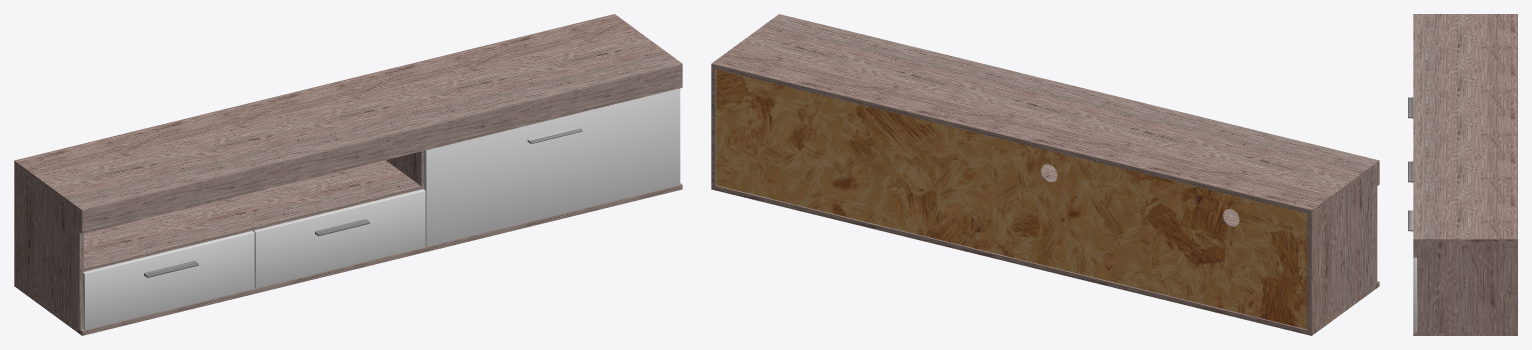
File: tv-table3.glb
3 views of the same model, side by side, from view 1: azimuth 30°, elevation 25°; view 2: azimuth 150°, elevation 25°; view 3: azimuth 270°, elevation 25° (orthographic). The views are drawn at different scales.
Parts seen in each view (by area): view 1: #SHL0005_Wood_Gray_TV_(210cm)_0, #SHL0005_Door_3, #SHL0005_Drawer_L_2, #SHL0005_Drawer_R_1; view 2: #SHL0005_Wood_Gray_TV_(210cm)_0; view 3: #SHL0005_Wood_Gray_TV_(210cm)_0, #SHL0005_Door_3, #SHL0005_Drawer_R_1, #SHL0005_Drawer_L_2.
Boxes of the visible parts, x1,y1,x2,y2 form: #SHL0005_Wood_Gray_TV_(210cm)_0: (14,14,682,335); #SHL0005_Door_3: (424,88,680,246); #SHL0005_Drawer_L_2: (82,231,254,330); #SHL0005_Drawer_R_1: (253,189,425,288); #SHL0005_Wood_Gray_TV_(210cm)_0: (711,14,1379,335); #SHL0005_Wood_Gray_TV_(210cm)_0: (1413,14,1517,335); #SHL0005_Door_3: (1408,210,1416,331); #SHL0005_Drawer_R_1: (1408,161,1413,182); #SHL0005_Drawer_L_2: (1408,97,1413,118).
Bounding box in the file's own units: 2.1 × 0.435 × 0.4331.
6 materials, 2 textured.
